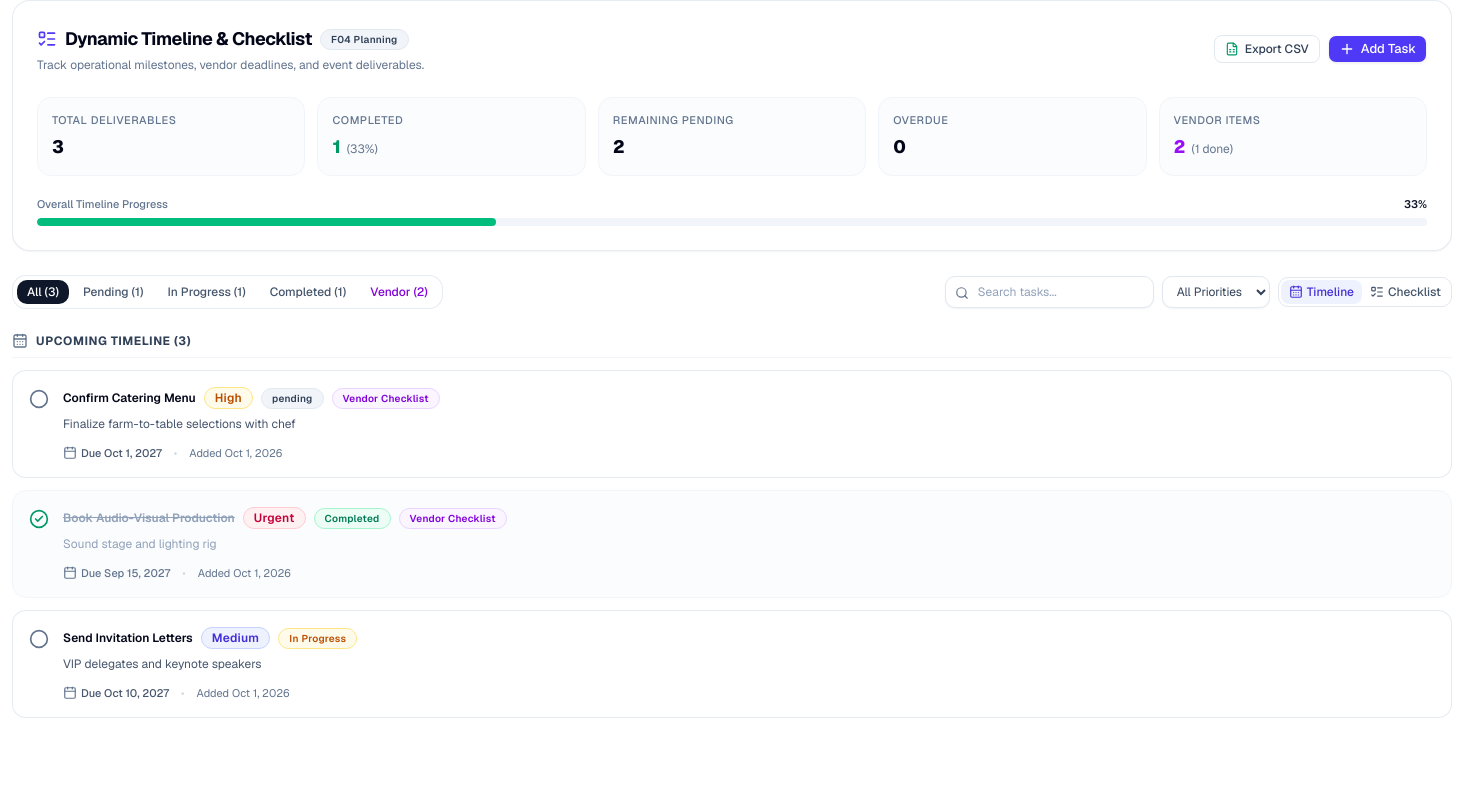
Test case: TimelineChecklistManager Component › filters tasks interactively by search query
Type "Catering" into the field with placeholder "Search tasks..." at (1049, 292), box [945,276,1154,308]
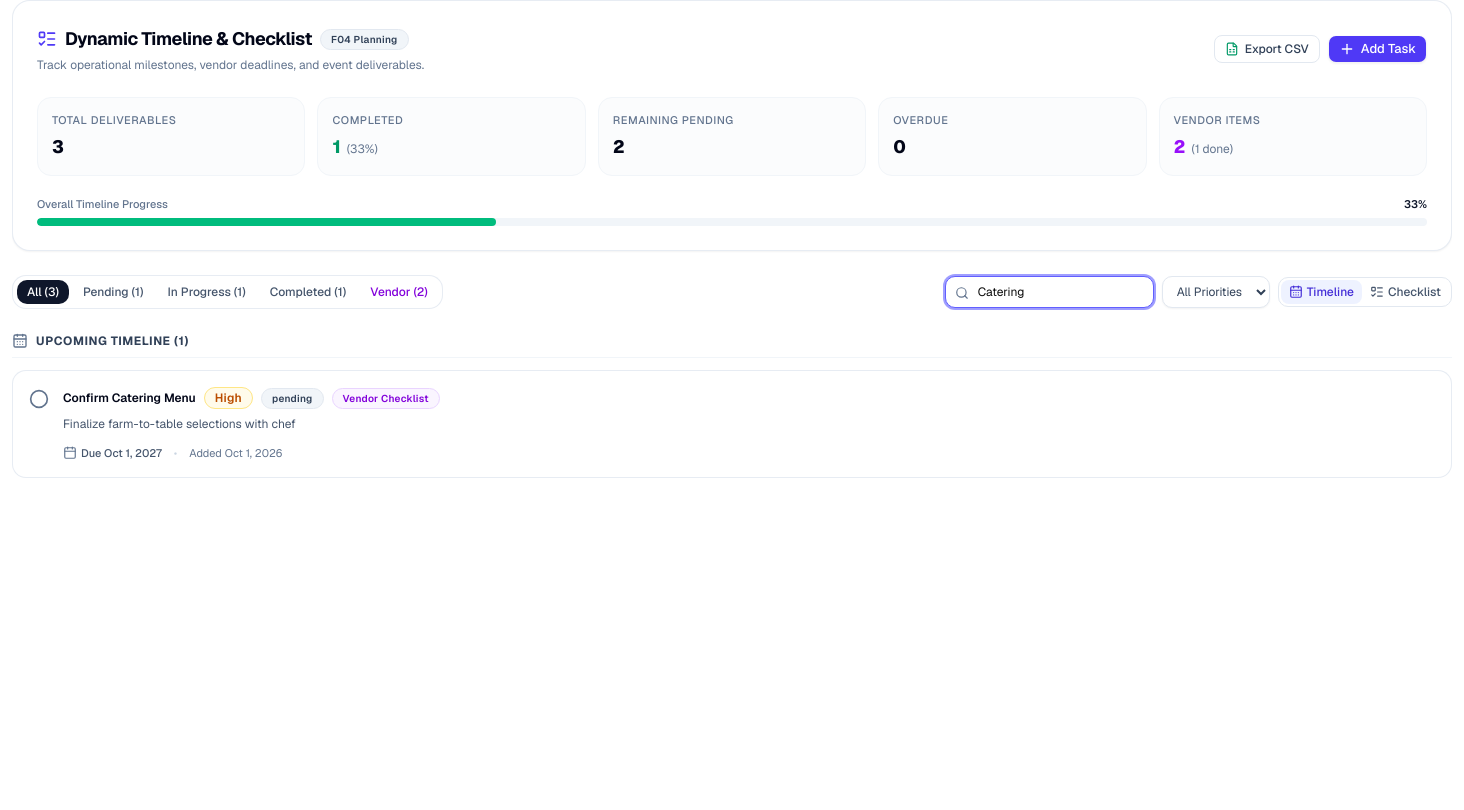
Check: the text "Confirm Catering Menu" is shown, box [63,390,196,406]
Check: the text "Book Audio-Visual Production" is gone
Check: the text "Send Invitation Letters" is gone
Clear the field with placeholder "Search tasks..." at (1049, 292), box [945,276,1154,308]
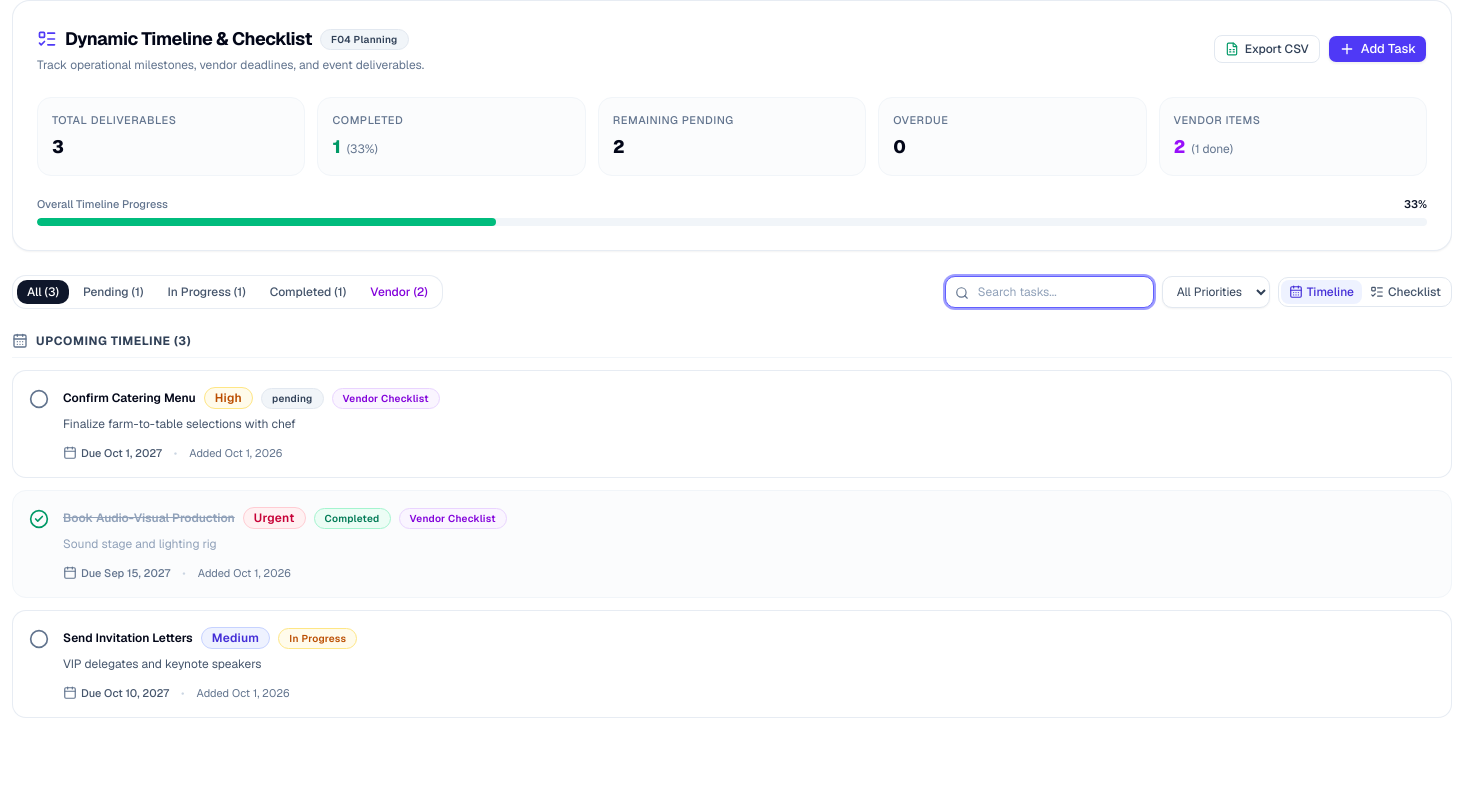
Check: the text "Book Audio-Visual Production" is shown, box [63,510,235,526]
